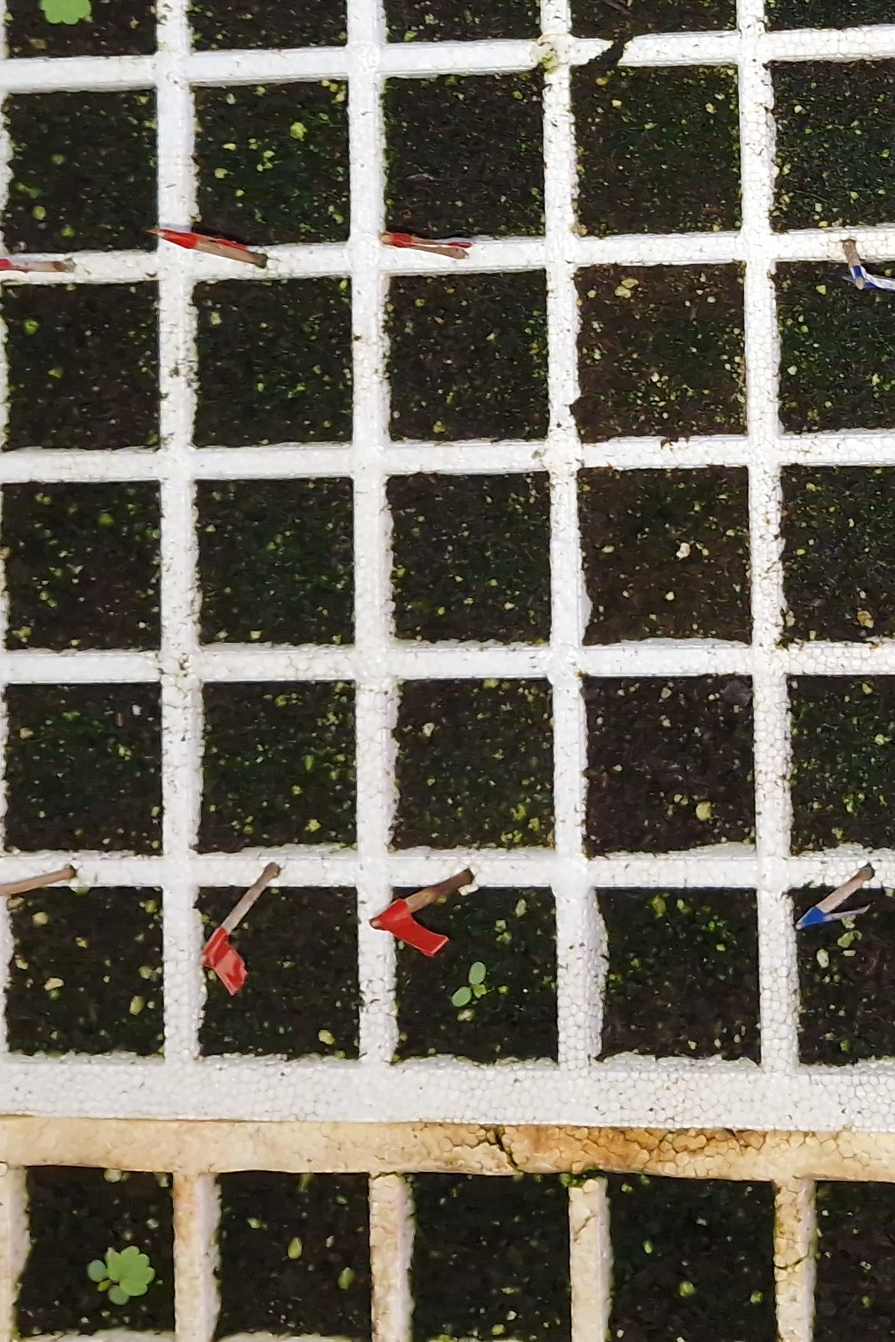Folha: (39, 0, 91, 25), (451, 987, 471, 1006), (468, 963, 486, 984), (472, 983, 486, 998)
Germinacao: (452, 961, 487, 1006), (40, 0, 90, 25)
